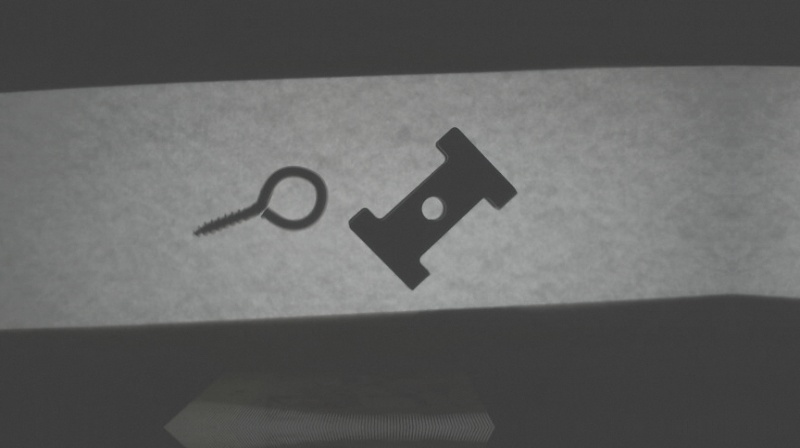O001: (190, 164, 331, 242)
O002: (347, 126, 518, 294)
